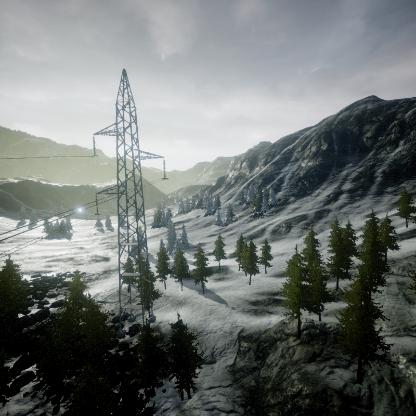tower: (87, 69, 171, 319)
